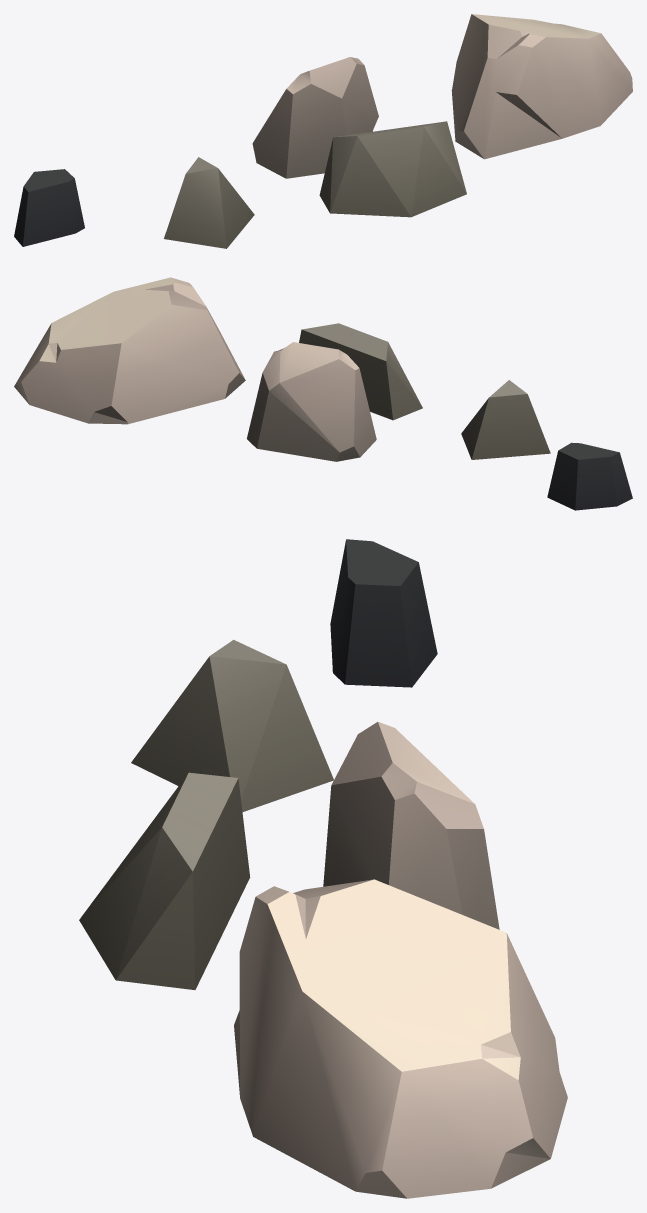
Rendered from Rocks_1A.fbx.
3 renders of one model, top to bottom at view 1: azimuth 30°, elevation 25°; view 2: azimuth 150°, elevation 25°; view 3: azimuth 270°, elevation 25°, orthographic. The views are drawn at different scales.
Parts seen in each view (by area): view 1: Rocks_1A; view 2: Rocks_1A; view 3: Rocks_1A.
Boxes of the visible parts, box(x1,y1,x2,y2) form: Rocks_1A: box(14, 14, 632, 248); Rocks_1A: box(14, 277, 632, 510); Rocks_1A: box(79, 539, 567, 1198).
Bounding box in the file's own units: 452 × 69.13 × 162.
